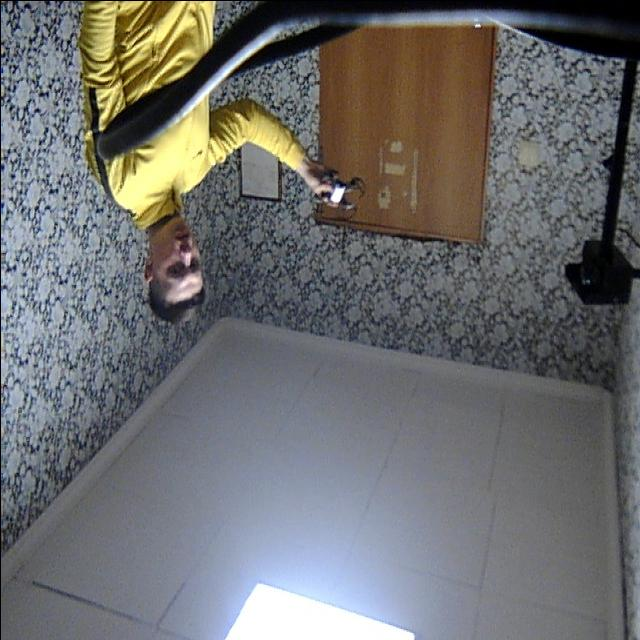drone: (302, 151, 368, 237)
